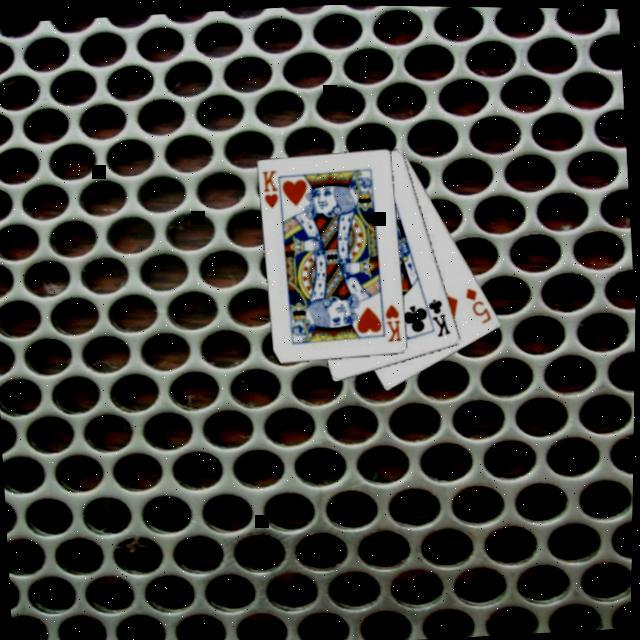5D: (461, 282, 495, 326)
KC: (418, 292, 454, 339)
KH: (380, 301, 406, 344), (258, 166, 282, 211)
